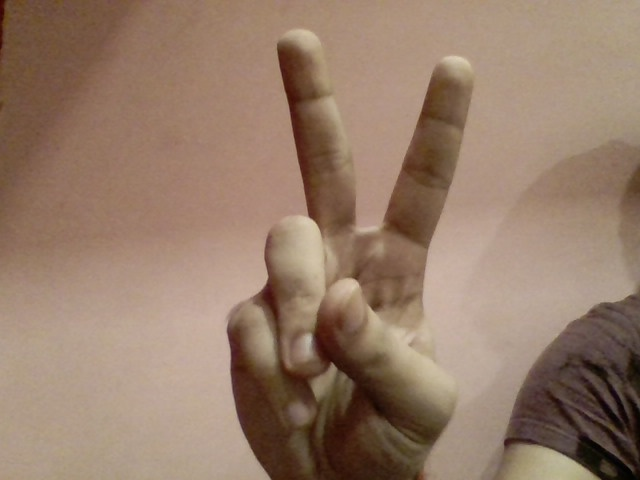v: (205, 24, 484, 475)
